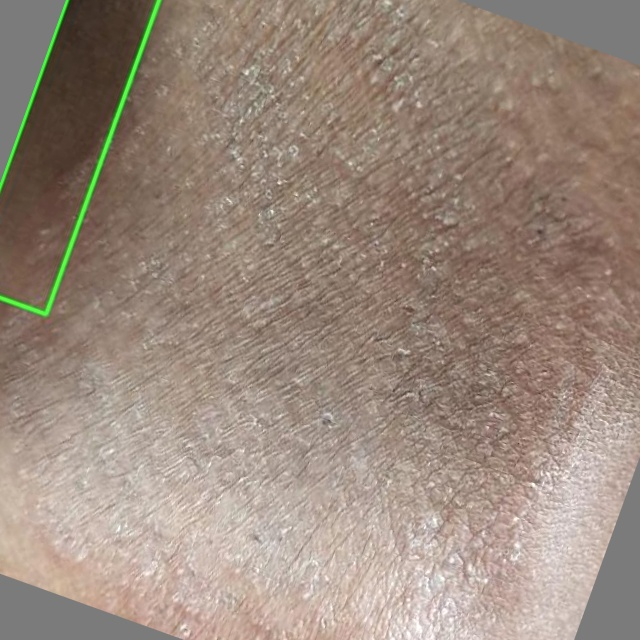Tinea Corporis: (0, 0, 160, 315)
